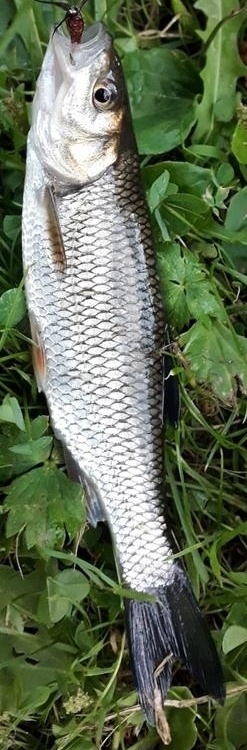Leuciscus cephalus: (20, 20, 227, 730)
